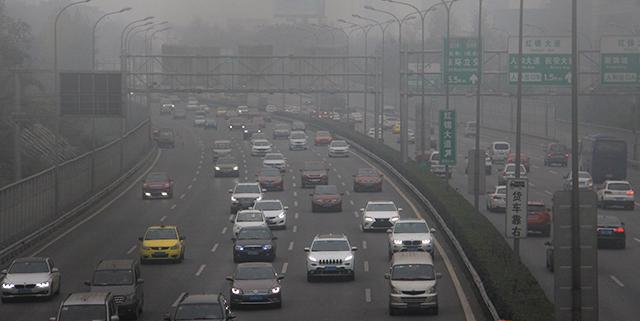bus: (572, 133, 627, 181)
car: (382, 249, 443, 317), (83, 257, 145, 318), (224, 261, 284, 311), (303, 231, 358, 281), (1, 256, 62, 298), (47, 288, 121, 321), (386, 219, 436, 264), (167, 291, 238, 321), (544, 230, 591, 274), (138, 224, 185, 262), (229, 225, 278, 260), (585, 212, 625, 250), (512, 199, 552, 236), (358, 201, 403, 231), (594, 178, 634, 211), (229, 207, 269, 238), (247, 198, 288, 228), (307, 183, 344, 213), (227, 181, 266, 209), (139, 170, 175, 199), (485, 183, 516, 213), (297, 159, 330, 187), (423, 149, 452, 179), (494, 162, 529, 186), (253, 165, 285, 191), (462, 148, 491, 176), (350, 167, 383, 191), (541, 140, 567, 168), (561, 169, 592, 192), (213, 154, 241, 177), (259, 151, 287, 172), (210, 138, 233, 162), (286, 129, 308, 151), (326, 138, 350, 158), (249, 138, 272, 156), (270, 121, 293, 139), (490, 140, 510, 160), (242, 121, 262, 140), (395, 127, 415, 143), (464, 119, 480, 138), (313, 130, 332, 145), (366, 126, 383, 142), (228, 116, 243, 130), (202, 118, 217, 130)
